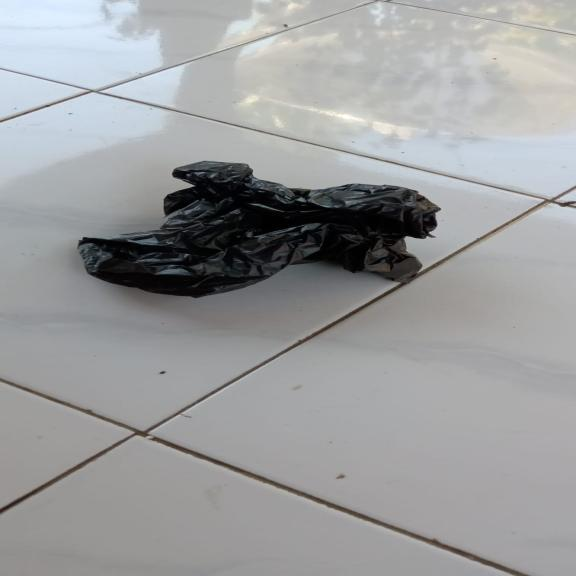Plastik: (76, 160, 441, 297)
